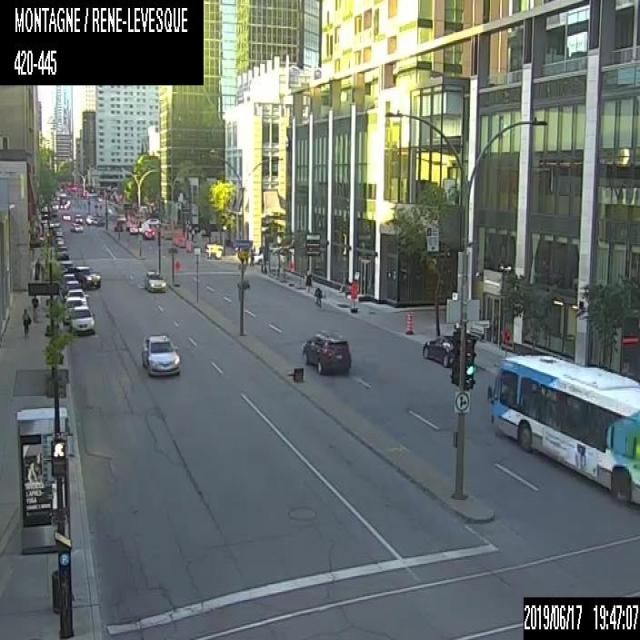bus: (486, 352, 639, 504)
construction: (287, 366, 304, 380), (350, 280, 357, 311), (174, 259, 181, 285), (406, 313, 412, 333), (188, 240, 192, 250), (186, 240, 189, 250)
pedestrian: (22, 308, 30, 342), (32, 290, 40, 322), (314, 285, 322, 308), (249, 249, 255, 267)
vehicle: (301, 328, 351, 373), (421, 331, 477, 366), (139, 333, 180, 376), (68, 304, 95, 334), (70, 265, 101, 288), (63, 295, 83, 323), (143, 268, 166, 291), (65, 289, 88, 305), (62, 280, 80, 300), (61, 273, 74, 293), (59, 260, 74, 275), (54, 245, 69, 259), (49, 212, 61, 228), (143, 217, 161, 225), (52, 226, 65, 237), (69, 222, 82, 231), (59, 192, 66, 208), (142, 229, 154, 238), (129, 223, 139, 232), (55, 236, 65, 245), (74, 212, 82, 223), (93, 216, 103, 224), (50, 201, 58, 210), (61, 212, 71, 219)
